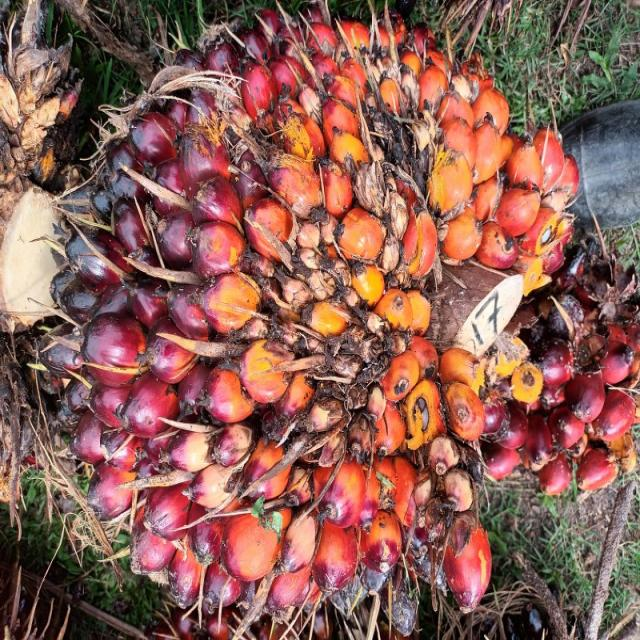fraksi 1: (18, 47, 470, 640)
